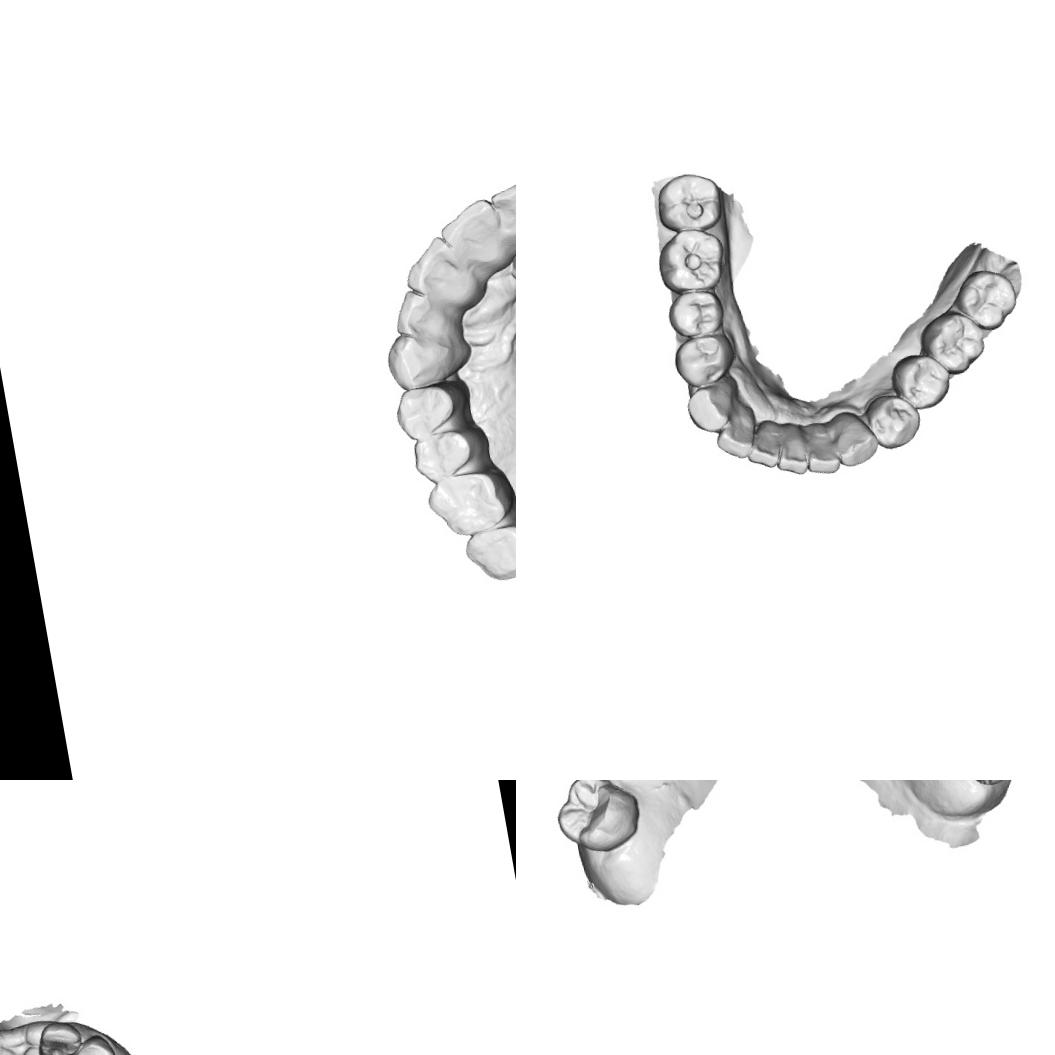canine: (382, 320, 475, 394), (681, 373, 744, 436), (827, 406, 882, 469), (62, 1031, 120, 1055)
incisor: (398, 229, 483, 316), (434, 194, 509, 282), (387, 282, 463, 348), (710, 402, 761, 463), (486, 174, 516, 262), (769, 420, 812, 478), (800, 420, 842, 477), (742, 416, 786, 470), (33, 1017, 84, 1055)
molar: (548, 780, 646, 859), (422, 462, 516, 541), (650, 223, 732, 297), (915, 305, 990, 380), (651, 167, 728, 238), (951, 264, 1021, 334), (459, 505, 516, 587)
premolar: (391, 377, 479, 442), (407, 422, 494, 486), (886, 348, 954, 414), (862, 387, 925, 454), (669, 330, 739, 390), (664, 287, 729, 340)
